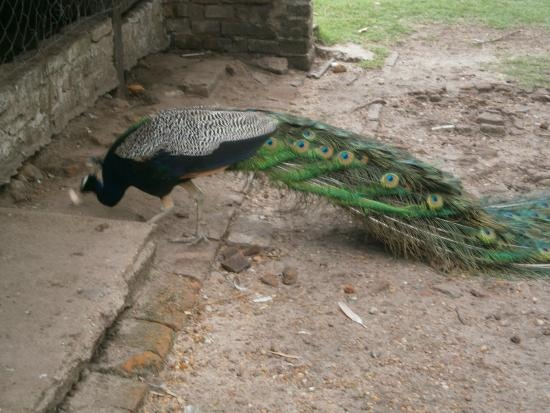pavoreal: (79, 110, 309, 210)
